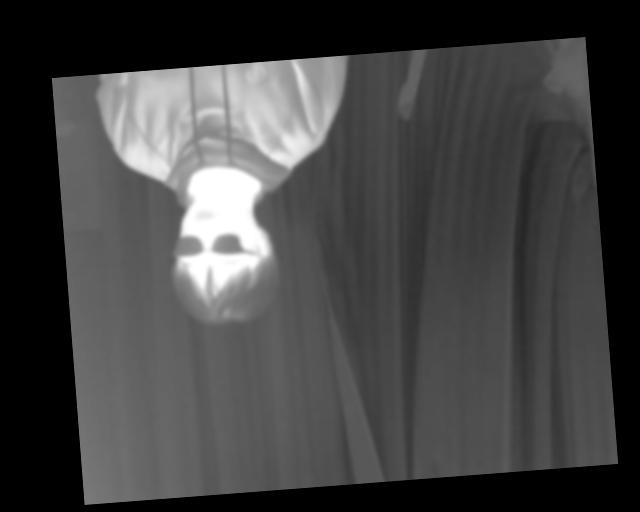face: (165, 191, 282, 328)
